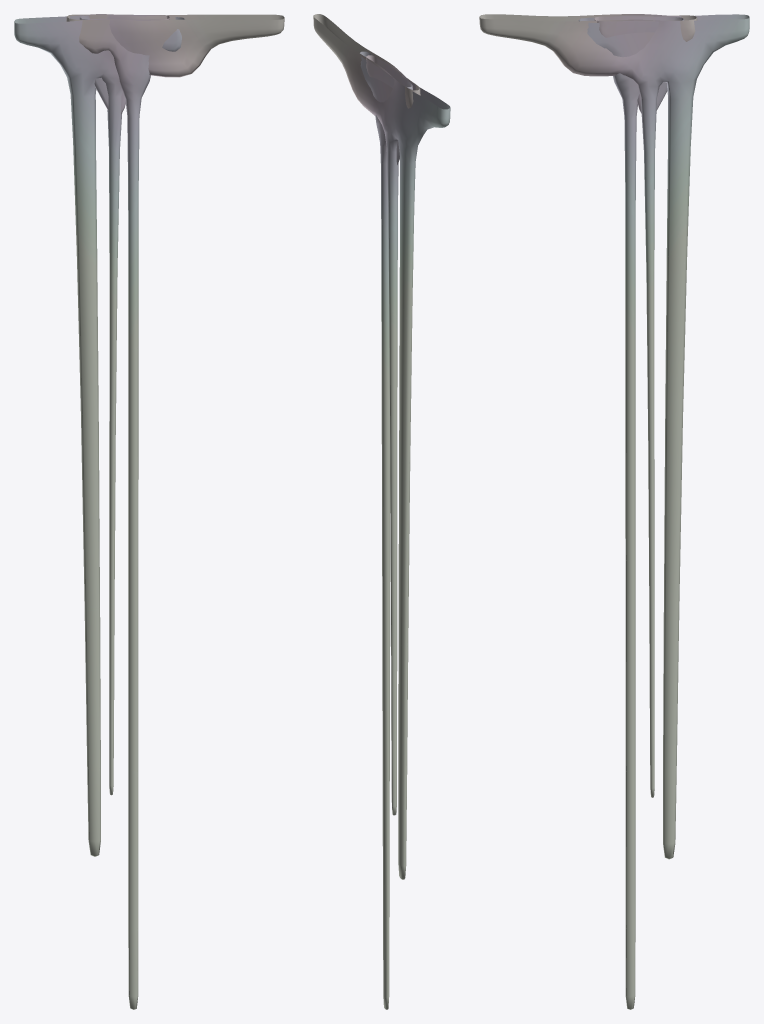
The model's file is Mucosa.fbx.
3 views of the same model, side by side, from view 1: azimuth 90°, elevation 25°; view 2: azimuth 210°, elevation 25°; view 3: azimuth 270°, elevation 25° (orthographic). The views are drawn at different scales.
Visible parts, largest first — view 1: Mucosa, Mucosa_2; view 2: Mucosa, Mucosa_2, Mucosa_3; view 3: Mucosa, Mucosa_2, Mucosa_3.
Boxes of the visible parts, bbox=[...] form: Mucosa: bbox=[14, 14, 284, 856]; Mucosa_2: bbox=[66, 14, 185, 1009]; Mucosa: bbox=[313, 14, 450, 879]; Mucosa_2: bbox=[360, 51, 420, 1009]; Mucosa_3: bbox=[366, 55, 412, 164]; Mucosa: bbox=[479, 14, 749, 859]; Mucosa_2: bbox=[578, 15, 697, 1009]; Mucosa_3: bbox=[594, 16, 684, 113].
Size of the model in its own units: 139 by 7497 by 1850.
